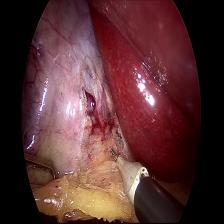Grasper: (22, 152, 68, 211)
Hook: (108, 145, 152, 209)
